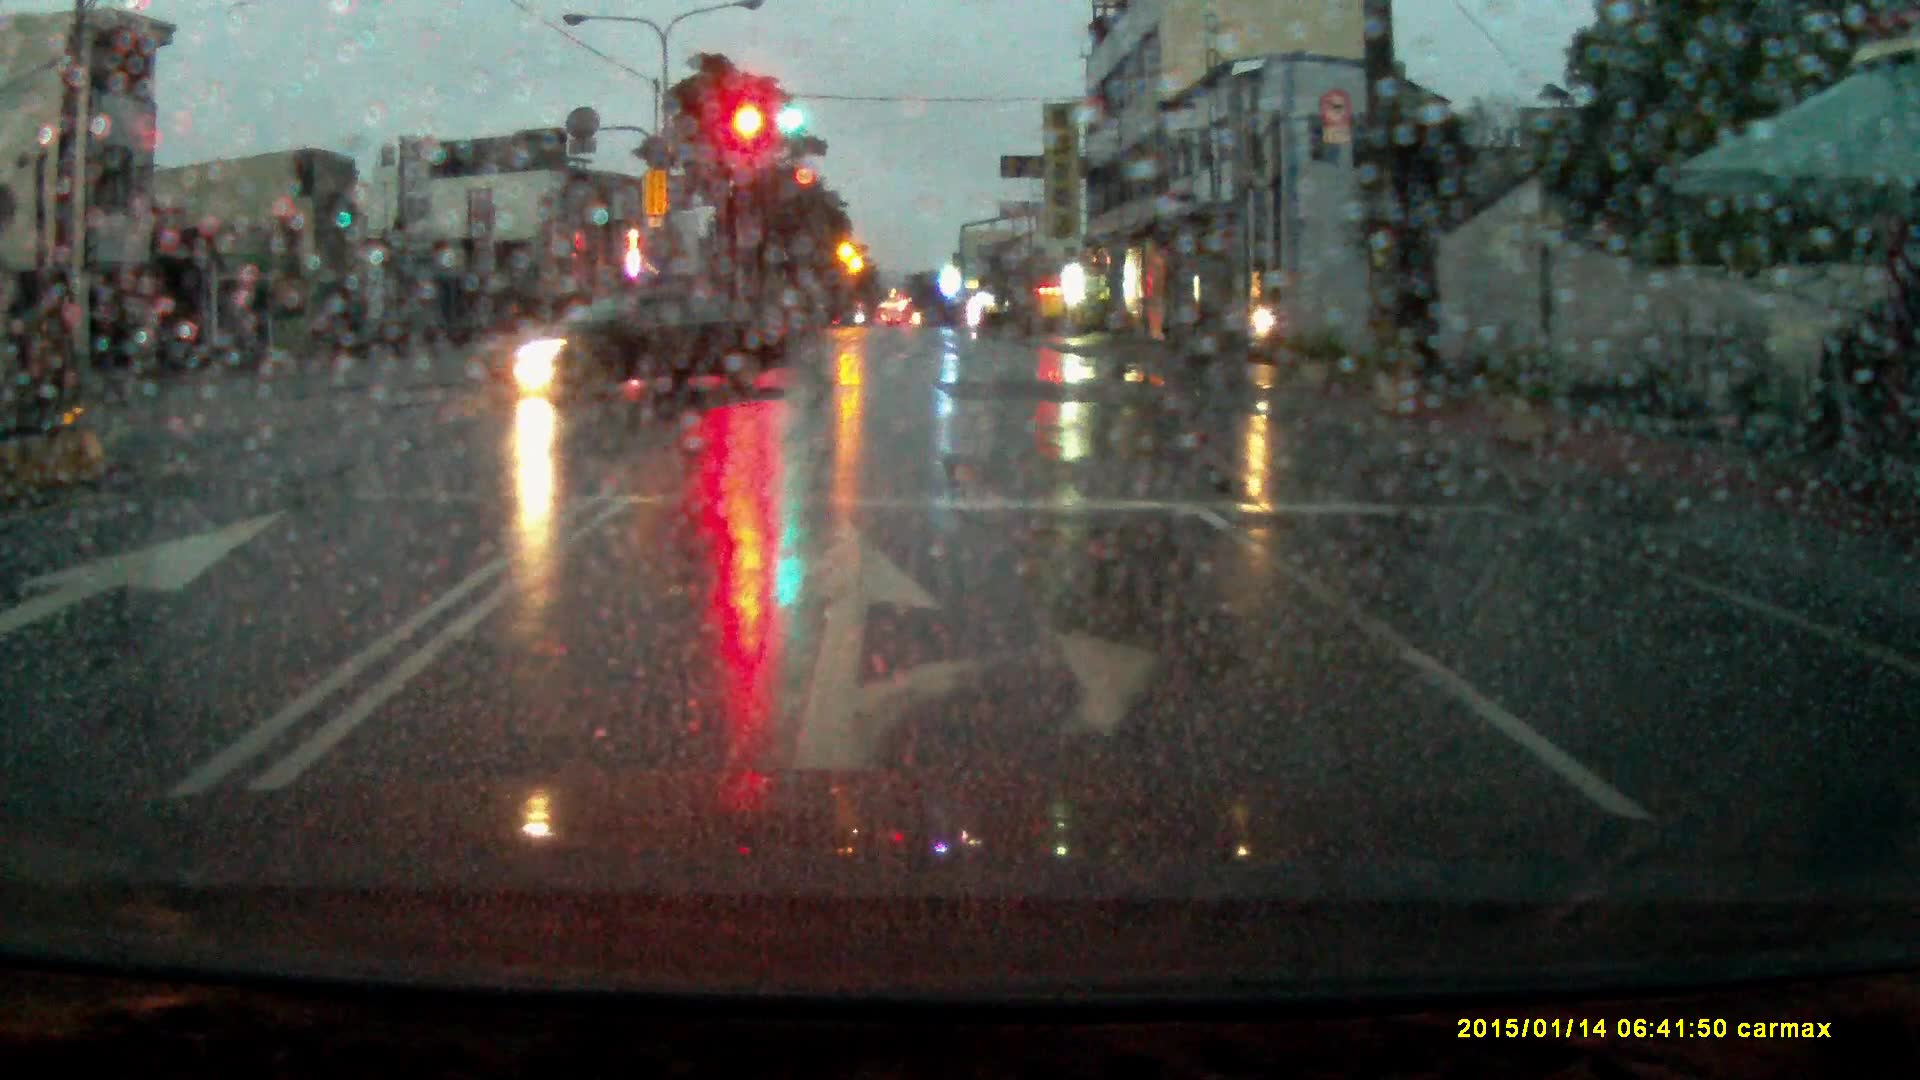rider: (1234, 275, 1307, 374)
vehicle: (473, 289, 796, 396)
